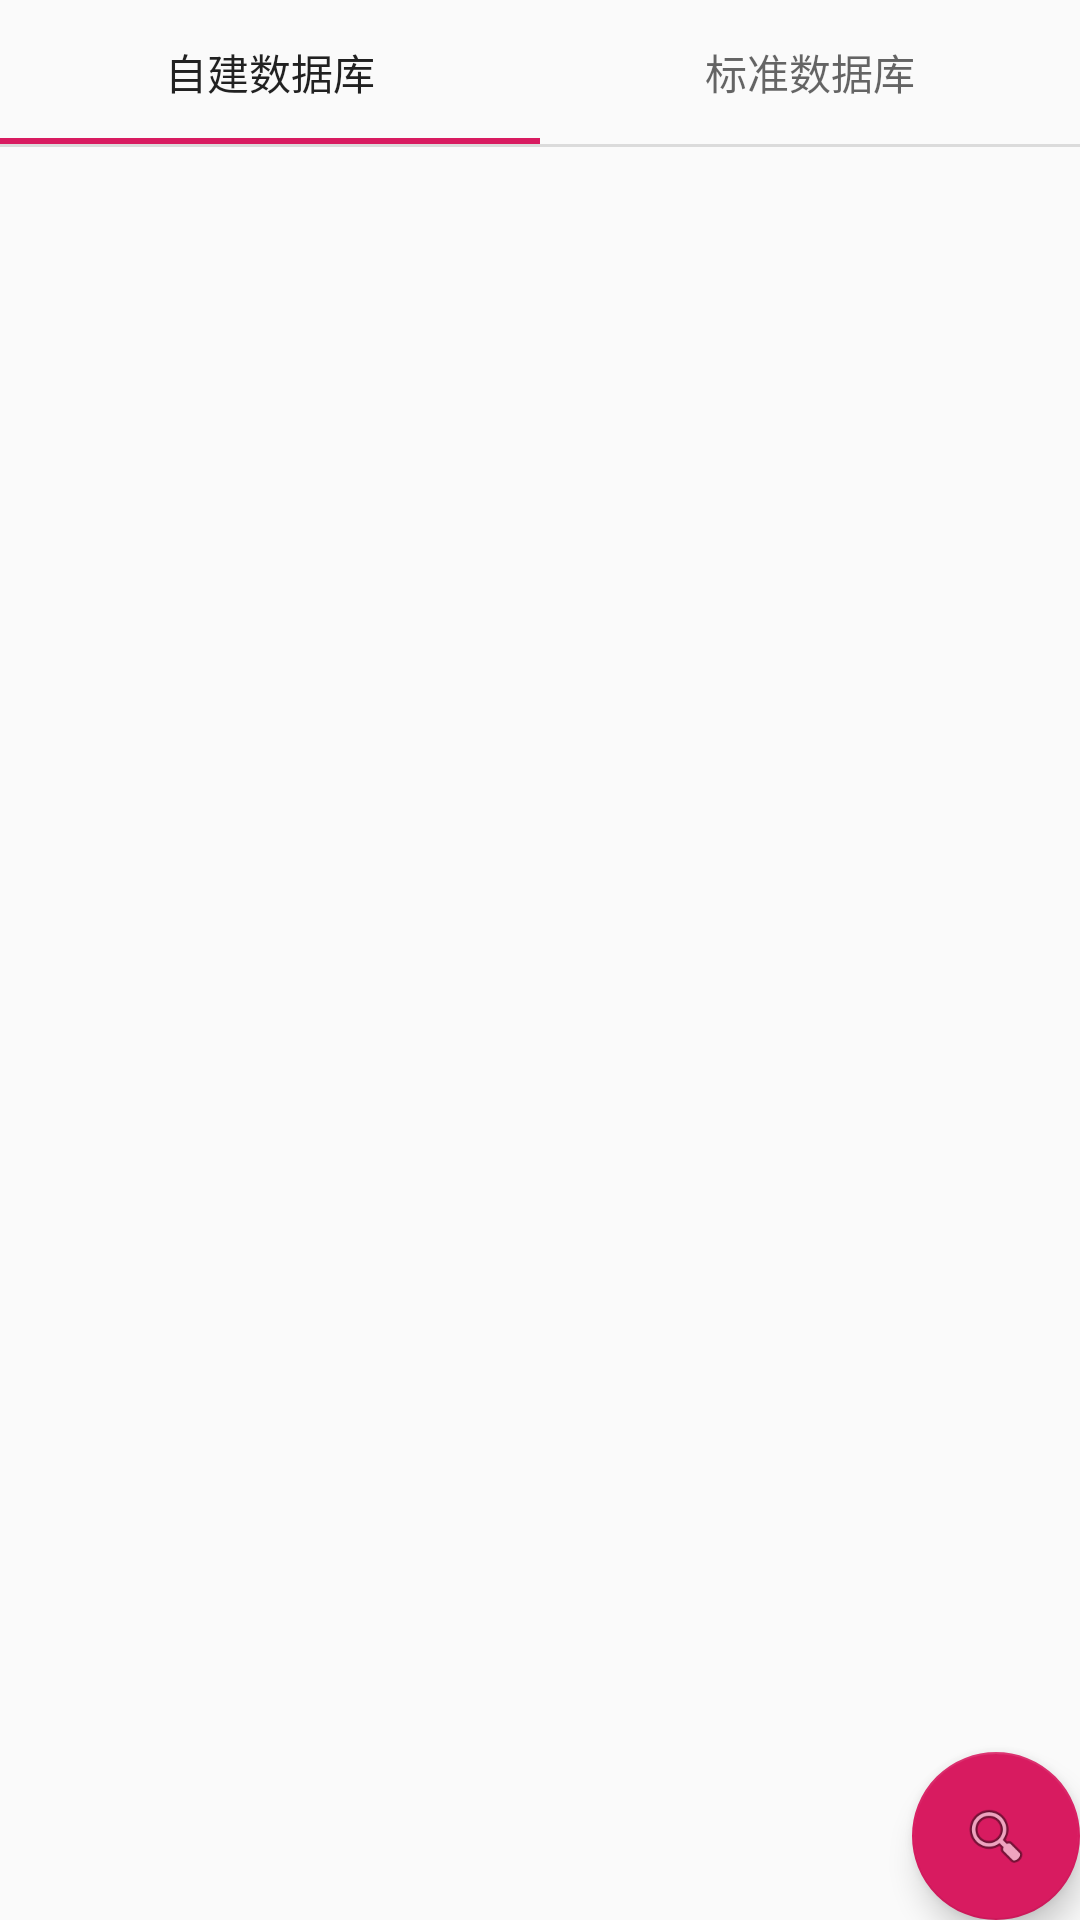

Icon click points for this 1080w x 1920h phone screenshot, format [x,y]:
search: [996,1836]
